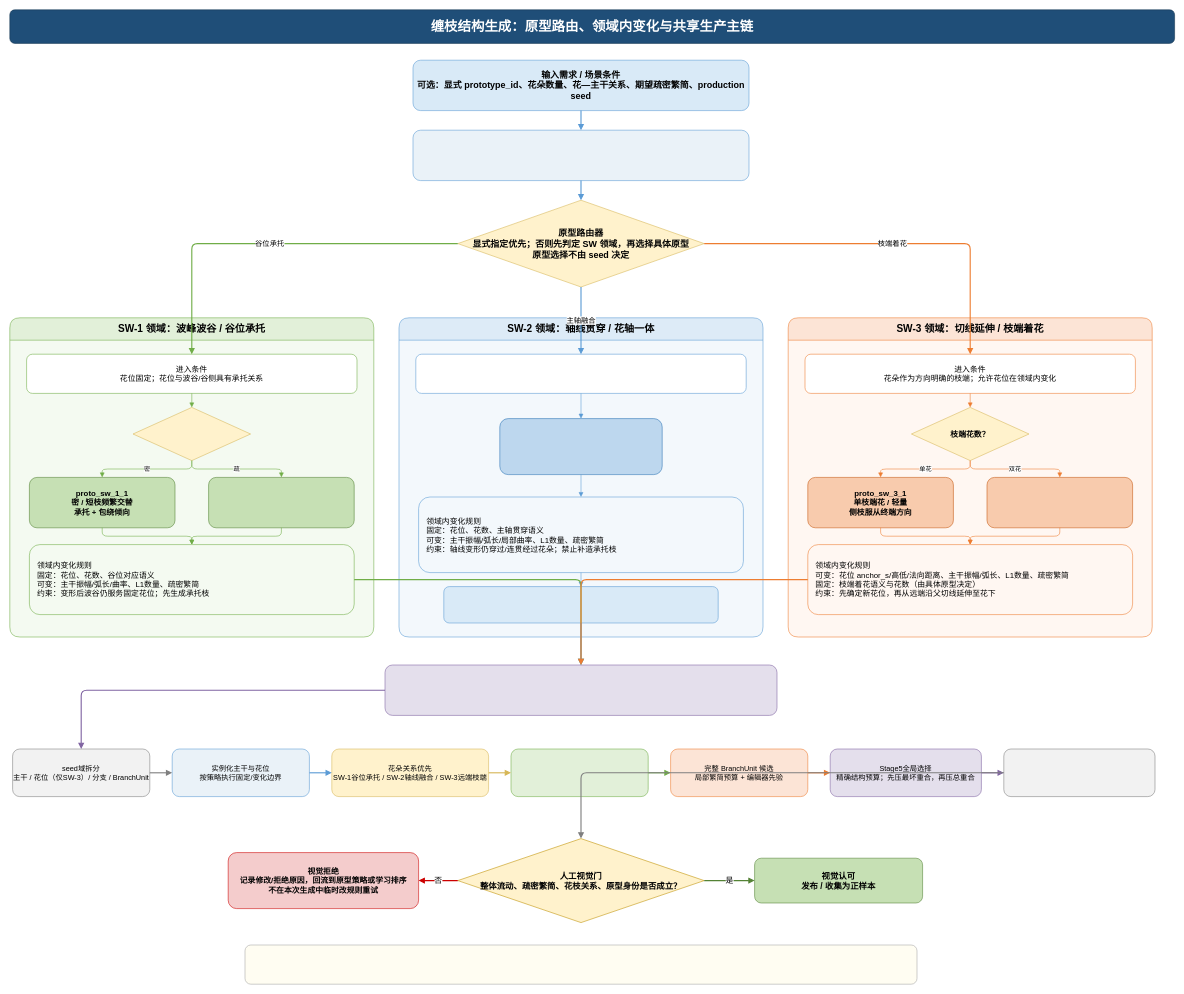
Image size: 1184x994. Some labels were removed from this diagram. Here are the shapes that lost their labels. From the top down, the centre of each, then its label:
At (x=580, y=155): "路由特征提取 ① 花是否属于主轴视觉元素 ② 花是否位于枝端 ③ 花数 ④ 谷位承托关系 ⑤ 目标疏密风格".
At (x=580, y=373): "进入条件 花朵是连续主轴视觉元素，不需要独立承托枝".
At (x=191, y=434): "目标风格？".
At (x=580, y=446): "proto_sw_2_3 宽阔主扫枝主导 沿主轴两侧组织节奏".
At (x=281, y=502): "proto_sw_1_3 疏 / 少量长扫枝 承托为主，不强制包绕".
At (x=1059, y=502): "proto_sw_3_2 双枝端花 / 中等密度 较强主枝 + 上侧倾向".
At (x=580, y=604): "花朵挂接策略：axis integration 记录主轴—花朵融合关系，承托枝数量 = 0".
At (x=580, y=689): "PrototypeStrategy 状态 具体原型 + 不变量 + 可控变量域 + 花朵挂接策略 + 密度/繁简预算 + 专属验证规则".
At (x=579, y=772): "L1全局规划 数量、根位密度场、留白、长度层级".
At (x=1079, y=772): "结构验证 周期连续、真实挂接、无相交、保护区、领域规则".
At (x=580, y=964): "所有原型共享硬约束：局部坐标挂接 · 周期连续 · 花位保护 · 无曲线相交 · 同种子可复现 所有原型共享发布规则：结构合法 ≠ 视觉通过".
